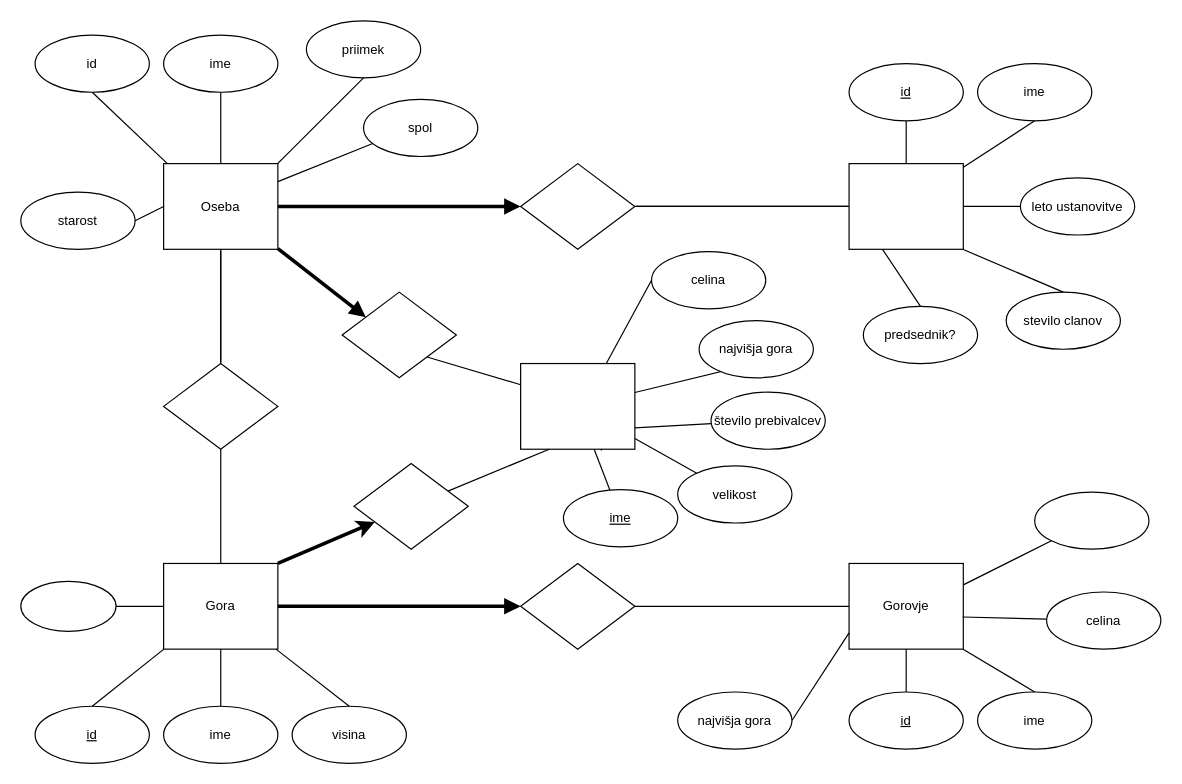
The diagram is 1182 pixels wide and 784 high, and some of its shapes have lost their labels. The shapes that lost their labels are listed below. From the top down, each one's centre as x and y in pixels, then its label:
the point at 577,205: je clan
the point at 905,205: Drustvo
the point at 398,334: je prebivalec
the point at 220,405: je osvojil
the point at 577,405: Država
the point at 410,505: se nahaja
the point at 1091,520: dolžina verige?
the point at 68,605: prvi pristop
the point at 577,605: je del
